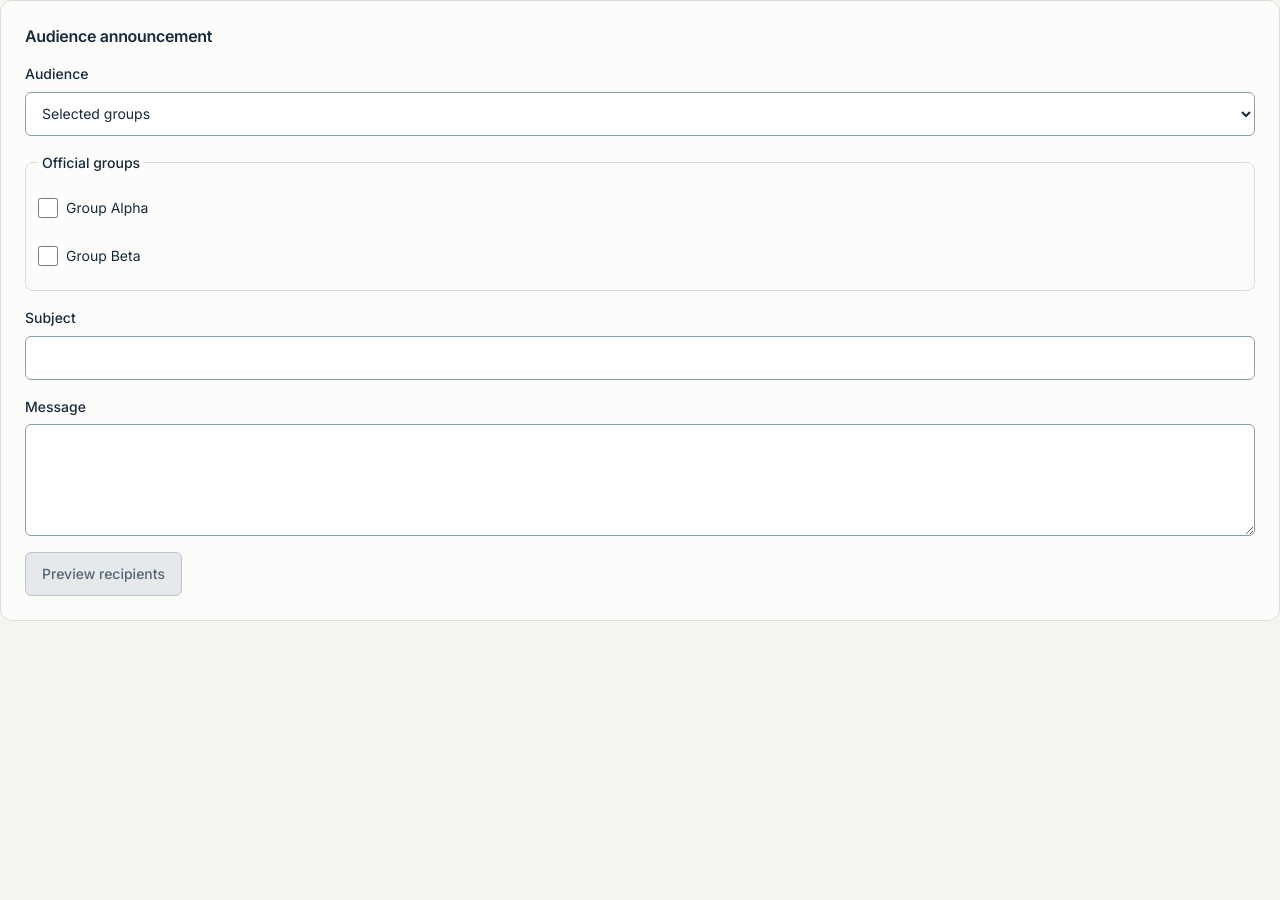
Test case: multi-group class notices › sends the union of the selected groups and shows the per-group breakdown
The width and height of the screenshot is (1280, 900).
Step 1. Click the checkbox labelled "Group Alpha" → (48, 208), box [38,198,58,218]
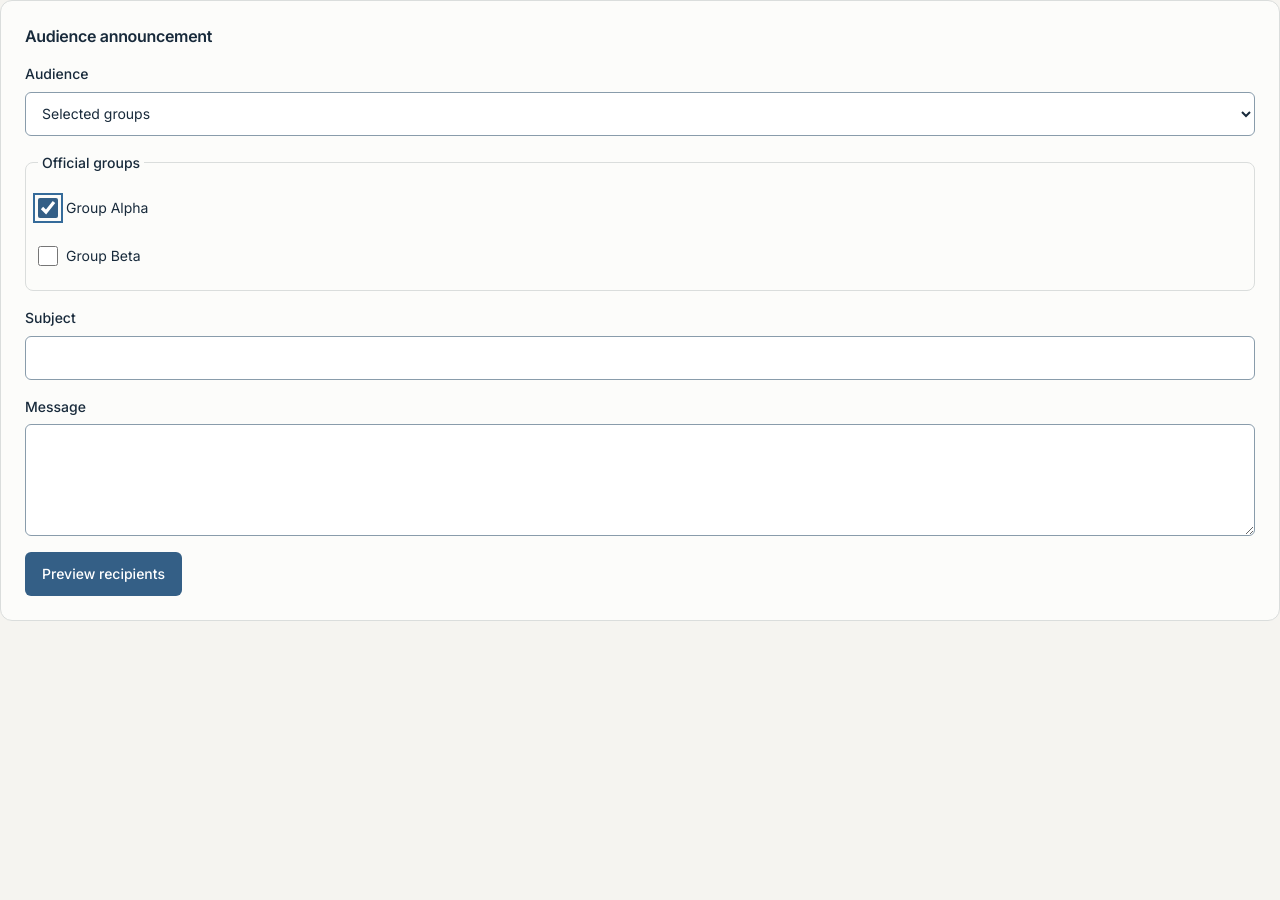
Step 2. Click the checkbox labelled "Group Beta" → (48, 256), box [38,246,58,266]
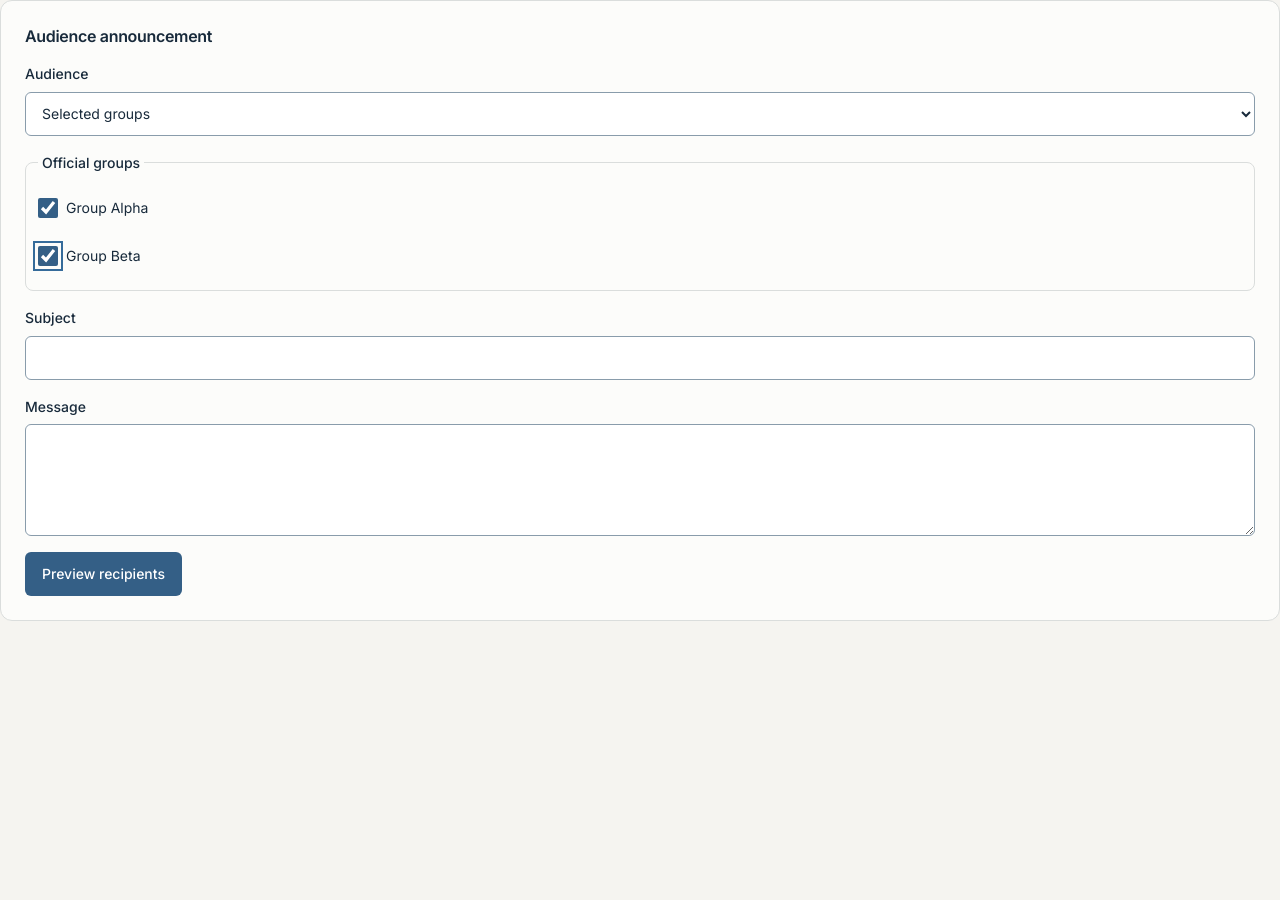
Step 3. Click the button "Preview recipients" → (104, 574), box [25,552,182,596]
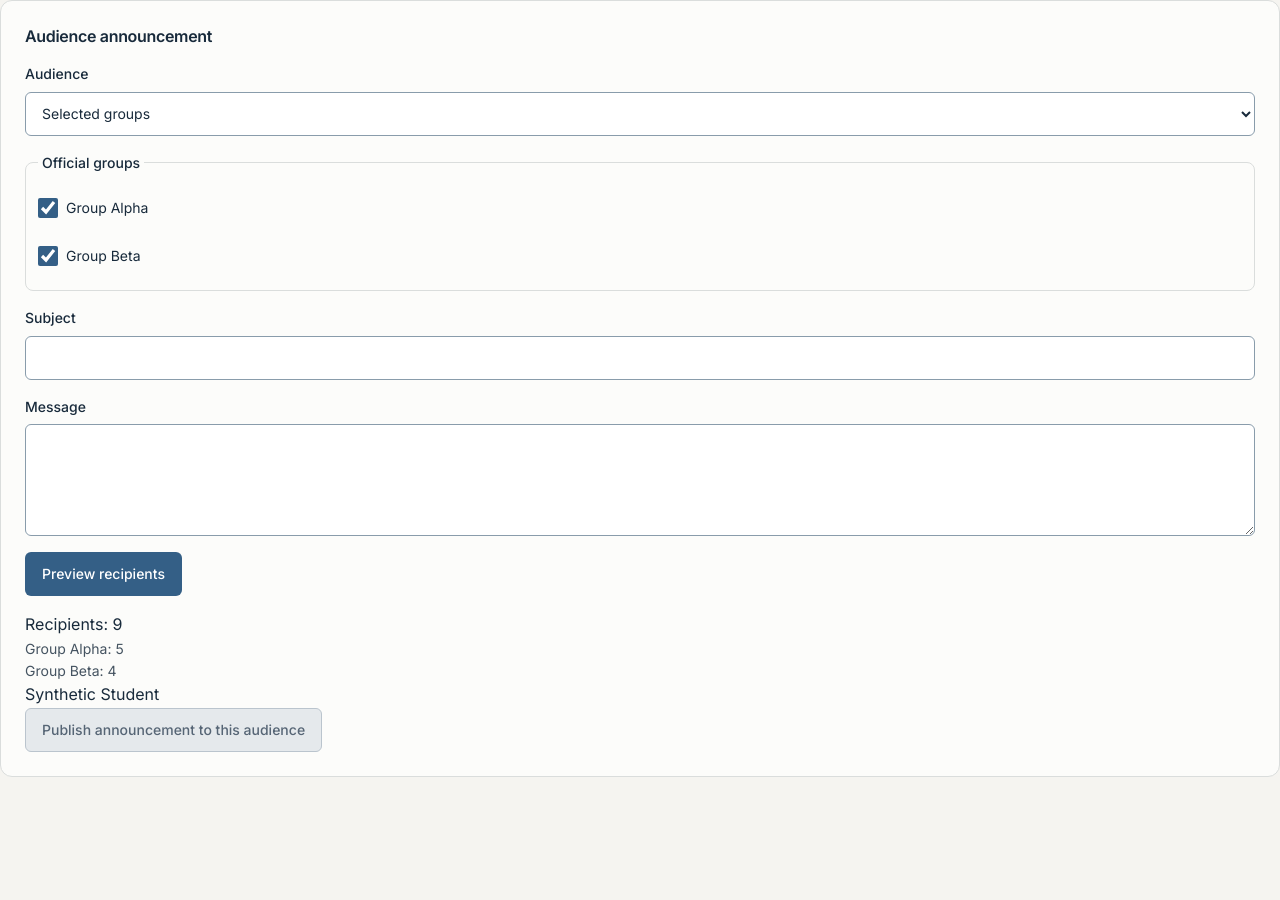
Result: the text "Recipients: 9" is shown at [25,614,122,634]
Result: the list item "Group Alpha: 5" is shown at [25,640,124,656]
Result: the list item "Group Beta: 4" is shown at [25,662,116,679]
